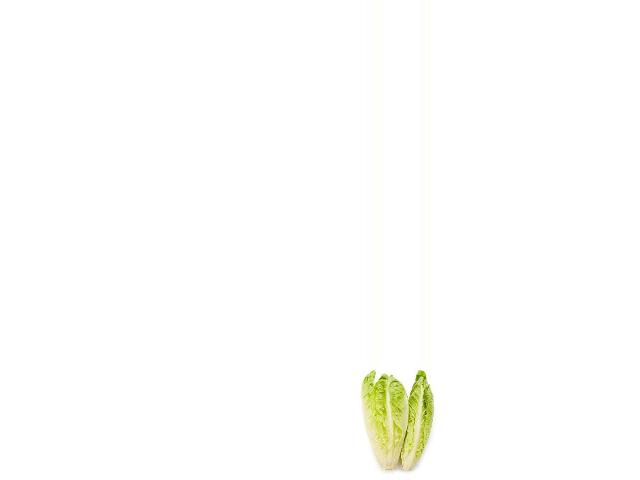lettuce: (398, 369, 443, 477)
